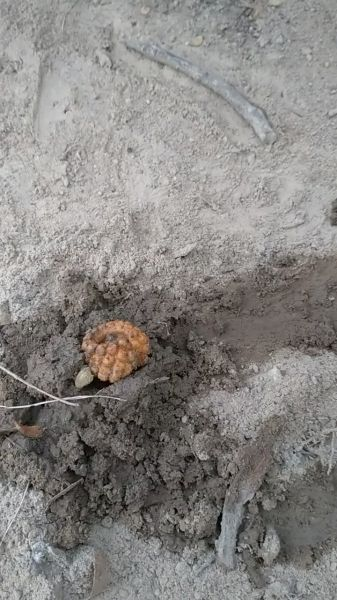eggs: (77, 315, 154, 384)
